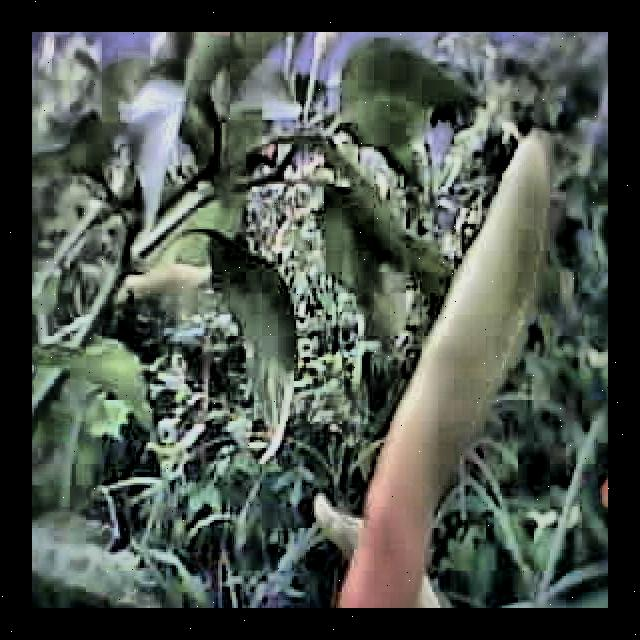Cabai: (324, 149, 540, 608)
